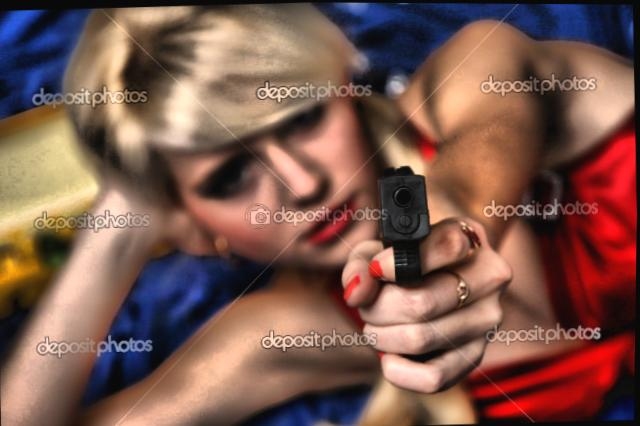pistol: (372, 159, 446, 378)
